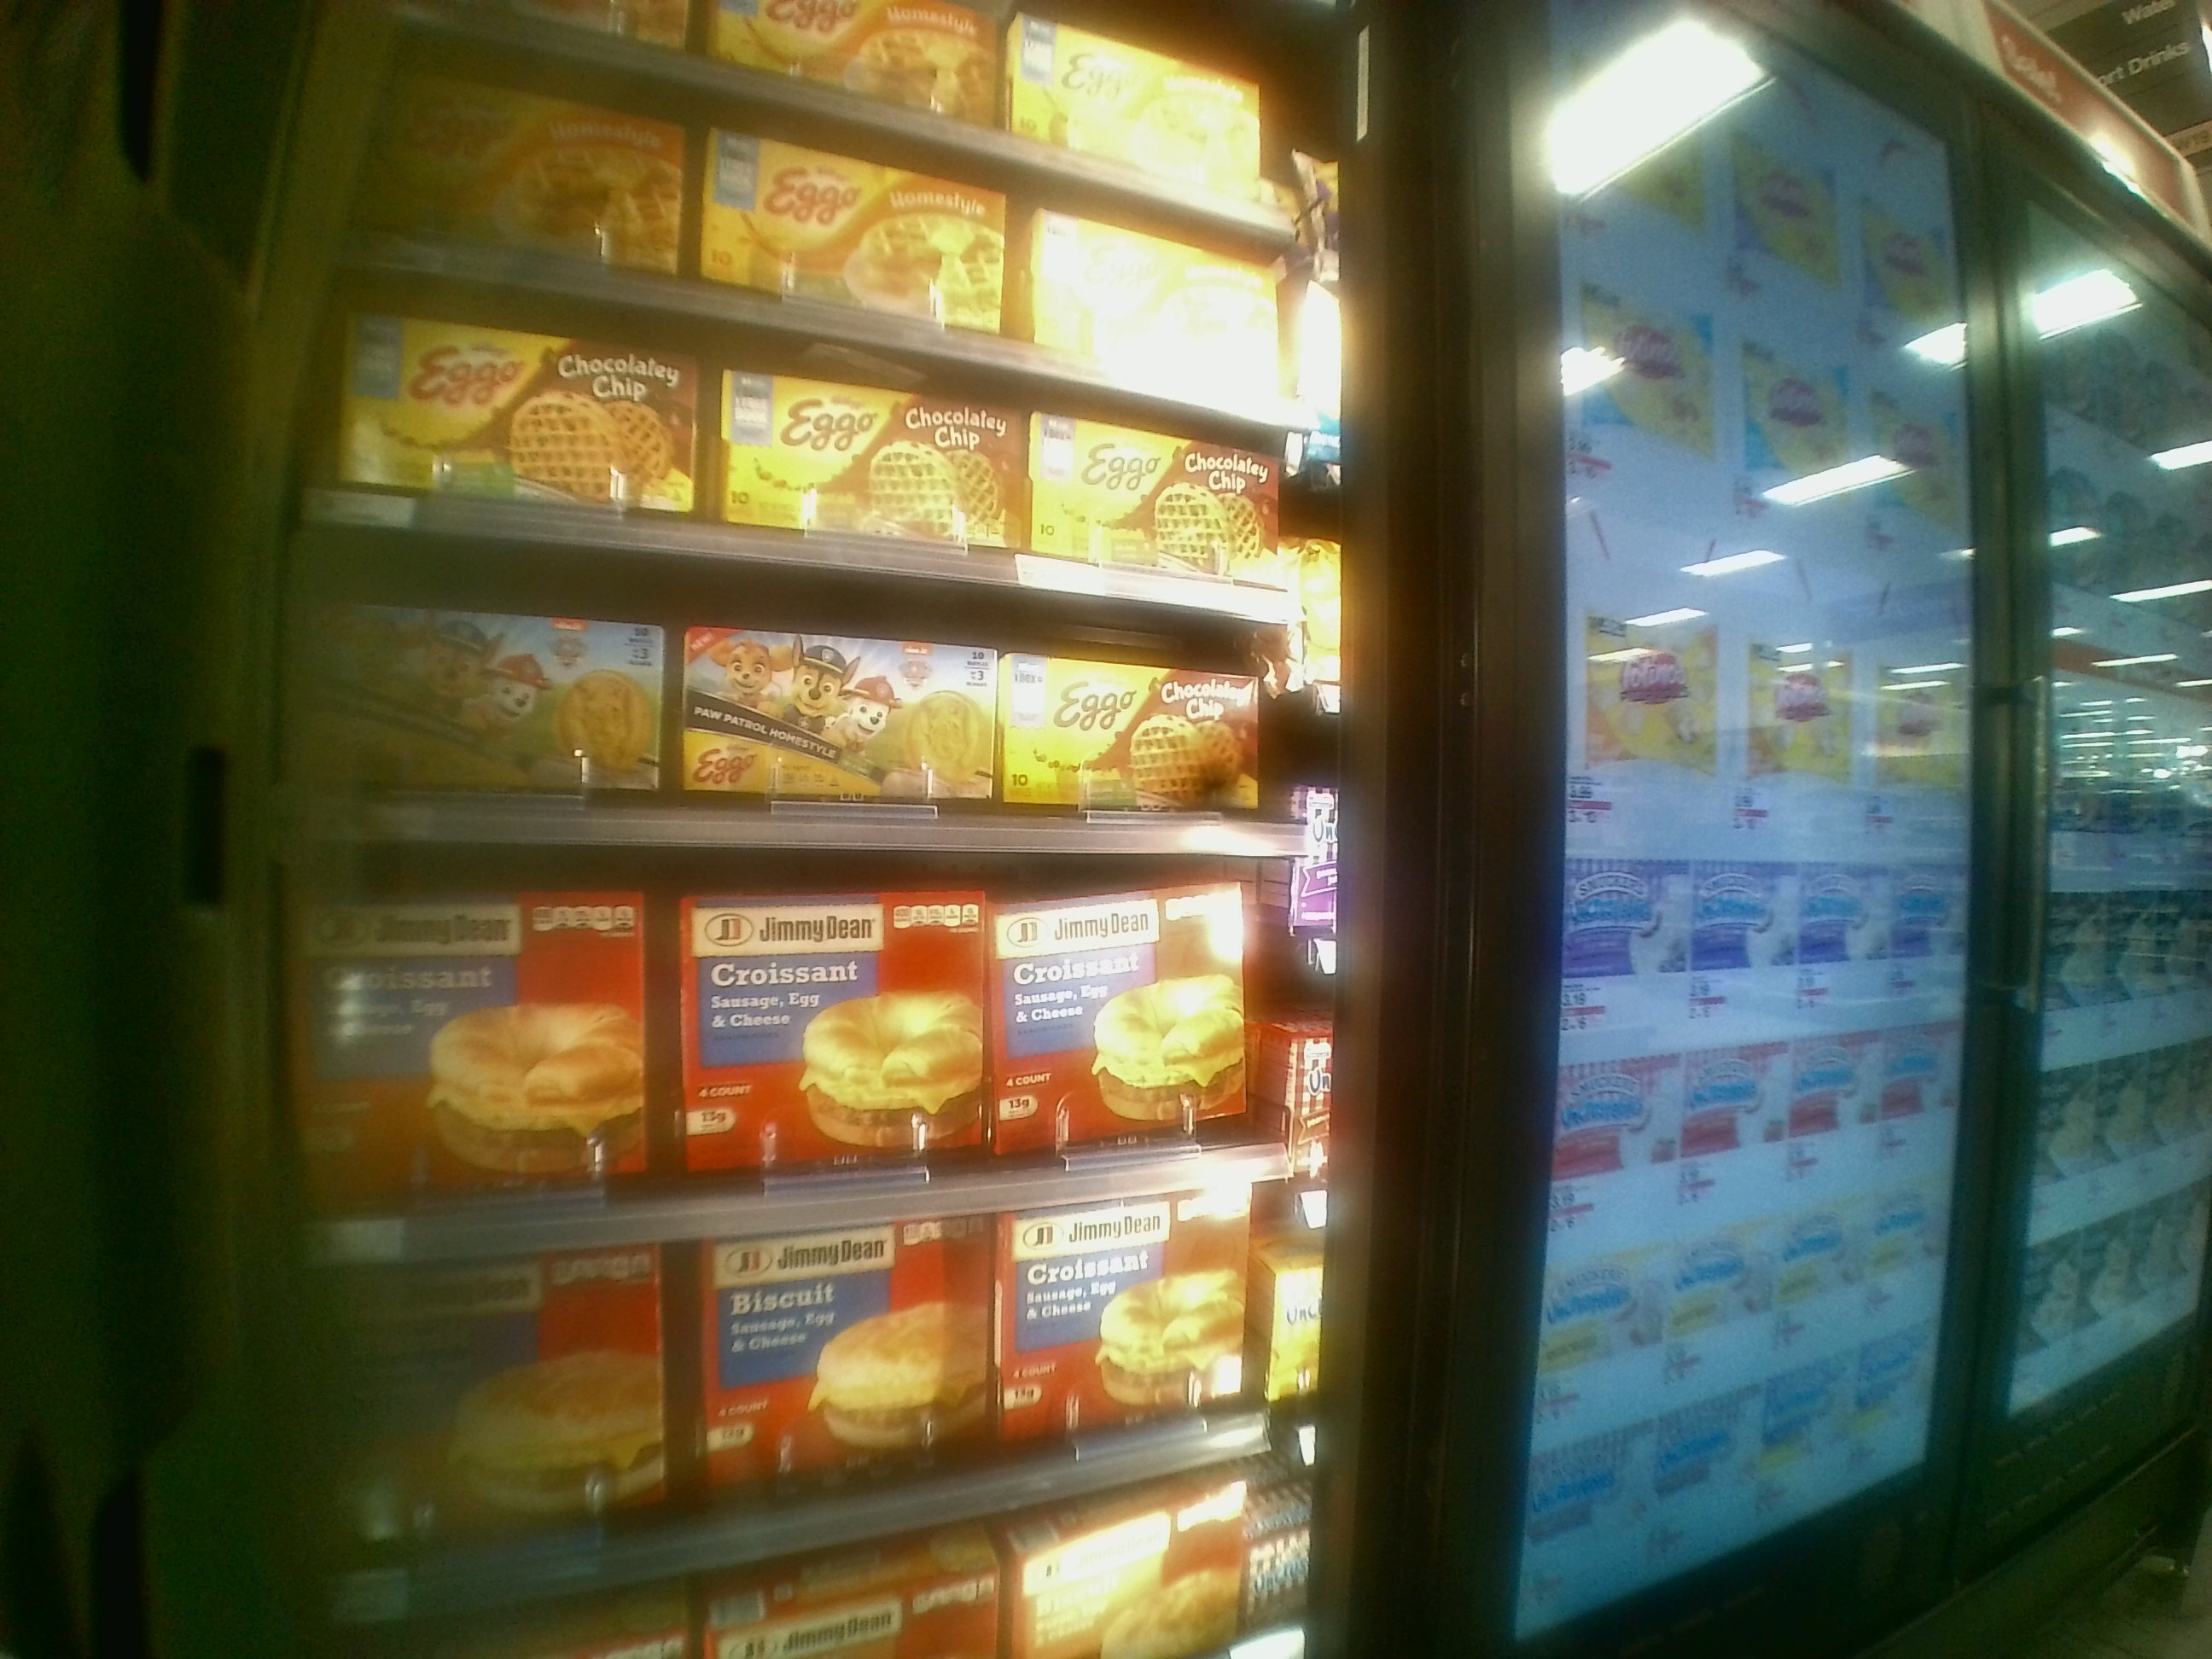shelf: (275, 854, 1322, 1258), (279, 528, 1327, 852)
